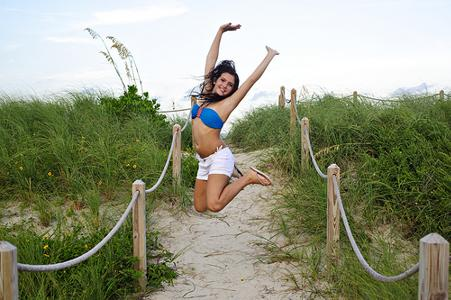person: (190, 21, 279, 213)
